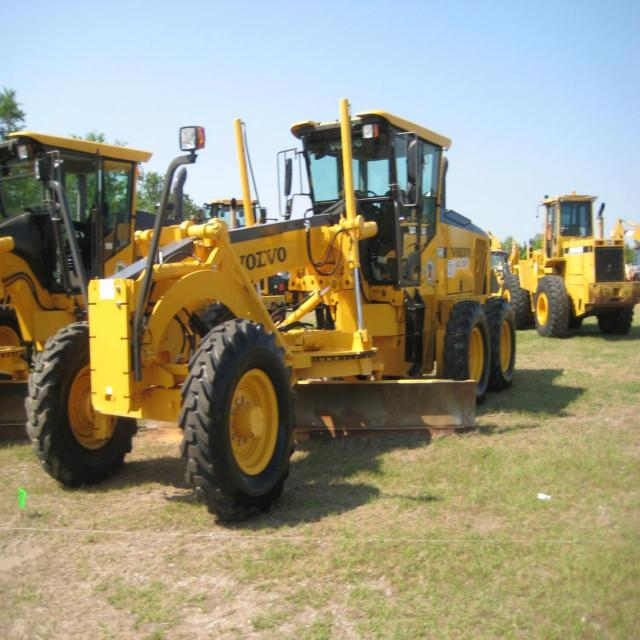Grader: (12, 94, 566, 527)
